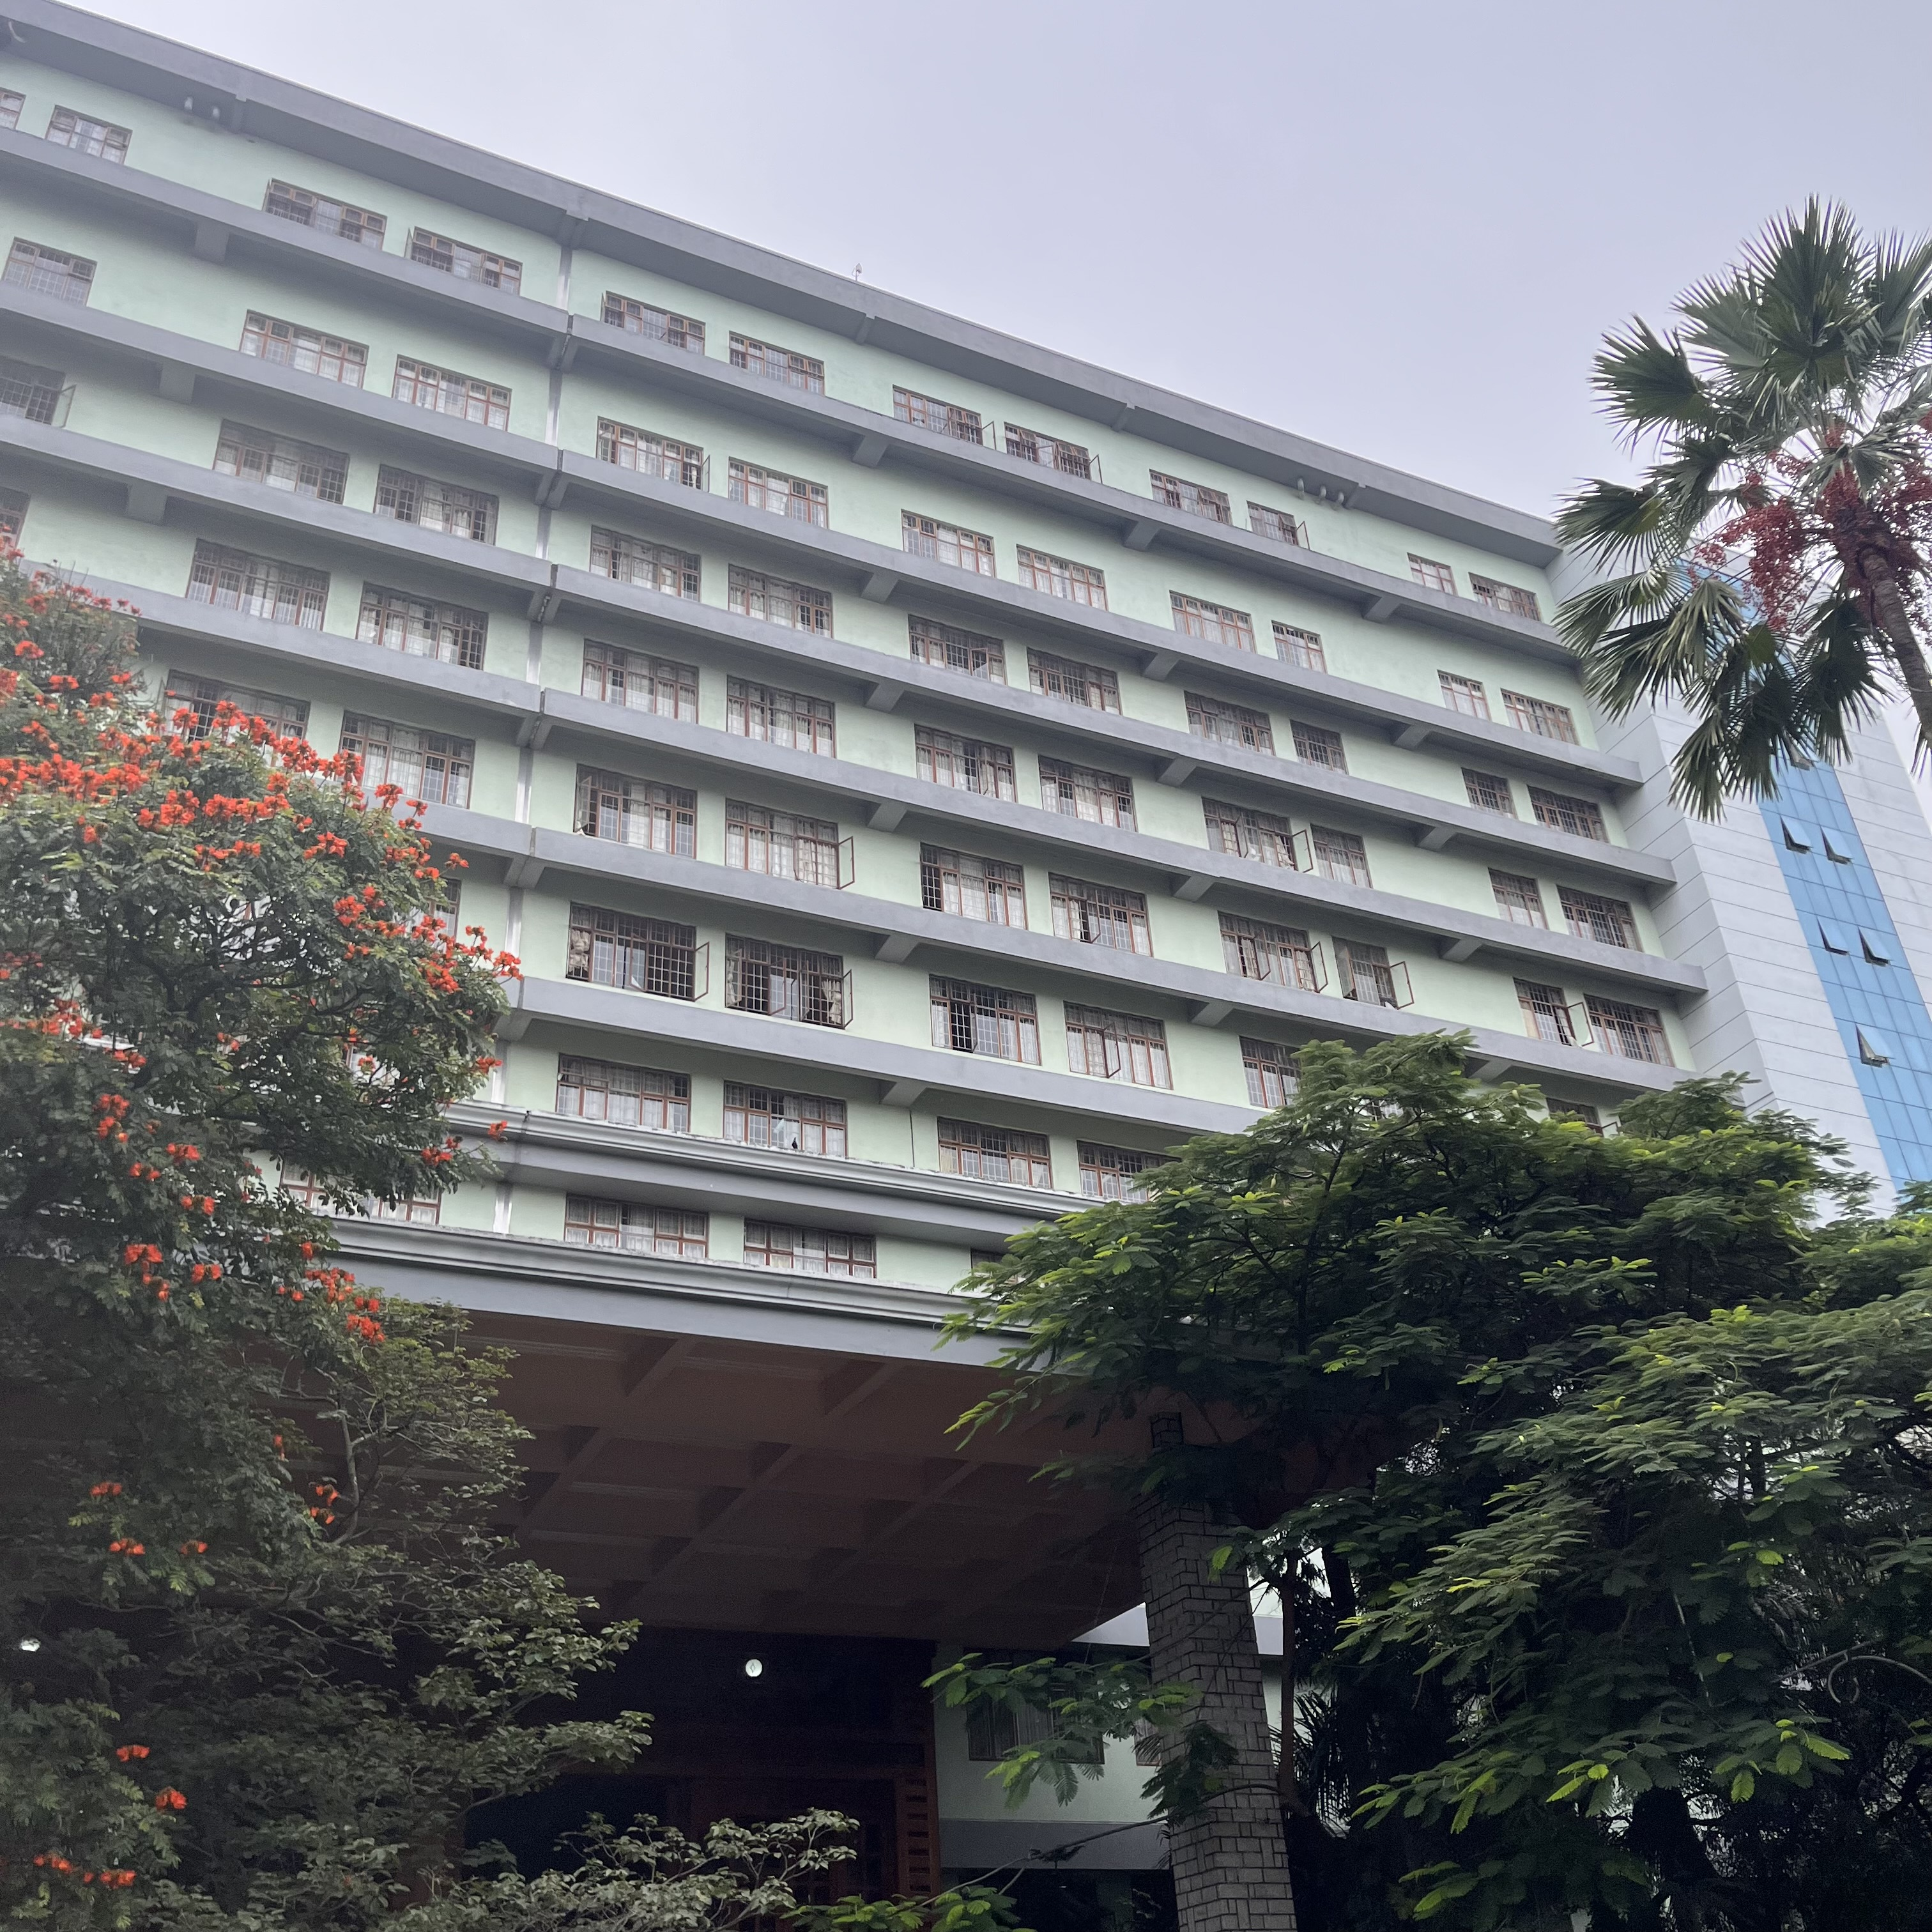Central Block: (2, 5, 1274, 1932)
